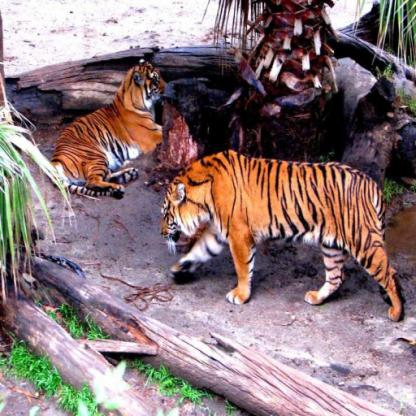Tiger: (156, 150, 408, 319), (48, 48, 173, 200)
